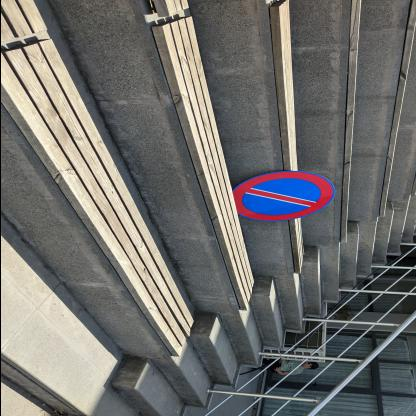No Waiting: (232, 172, 336, 223)
